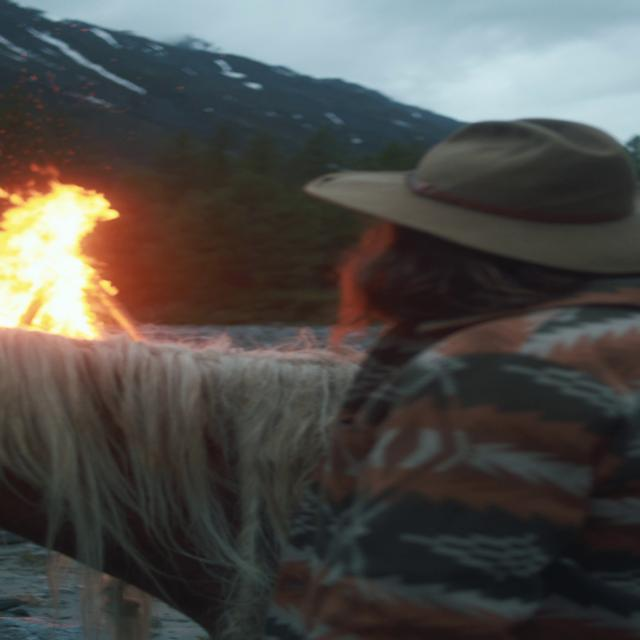Fire: (0, 166, 132, 340)
